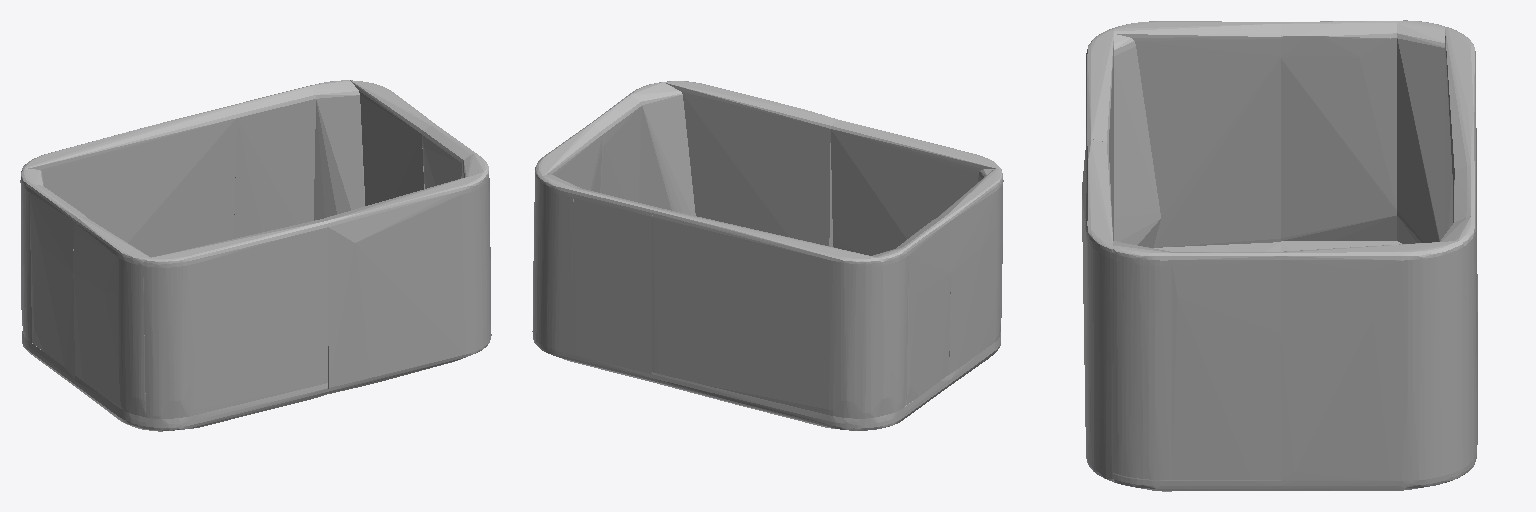
robot.urdf — root:
<robot name="root">
  <link name="link_coacd_convex_piece_0">
    <inertial>
      <origin xyz="0 0 0" rpy="0 0 0"/>
      <inertia ixx="8.41E-04" ixy="-5.33E-04" ixz="6.56E-04" iyy="1.51E-03" iyz="3.71E-04" izz="1.48E-03"/>
    </inertial>
    <visual>
      <origin xyz="0 0 0" rpy="0 0 0"/>
      <geometry>
        <mesh filename="coacd_convex_piece_0.obj" scale="1.0000E+00 1.0000E+00 1.0000E+00"/>
      </geometry>
      <material name="">
        <color rgba="7.50E-01 7.50E-01 7.50E-01 1"/>
      </material>
    </visual>
    <collision>
      <origin xyz="0 0 0" rpy="0 0 0"/>
      <geometry>
        <mesh filename="coacd_convex_piece_0.obj" scale="1.0000E+00 1.0000E+00 1.0000E+00"/>
      </geometry>
    </collision>
  </link>
  <link name="link_coacd_convex_piece_1">
    <inertial>
      <origin xyz="0 0 0" rpy="0 0 0"/>
      <inertia ixx="1.54E-03" ixy="-7.97E-04" ixz="-1.05E-03" iyy="2.47E-03" iyz="-6.84E-04" izz="2.35E-03"/>
    </inertial>
    <visual>
      <origin xyz="0 0 0" rpy="0 0 0"/>
      <geometry>
        <mesh filename="coacd_convex_piece_1.obj" scale="1.0000E+00 1.0000E+00 1.0000E+00"/>
      </geometry>
      <material name="">
        <color rgba="7.50E-01 7.50E-01 7.50E-01 1"/>
      </material>
    </visual>
    <collision>
      <origin xyz="0 0 0" rpy="0 0 0"/>
      <geometry>
        <mesh filename="coacd_convex_piece_1.obj" scale="1.0000E+00 1.0000E+00 1.0000E+00"/>
      </geometry>
    </collision>
  </link>
  <joint name="link_coacd_convex_piece_1_joint" type="fixed">
    <origin xyz="0 0 0" rpy="0 0 0"/>
    <parent link="link_coacd_convex_piece_0"/>
    <child link="link_coacd_convex_piece_1"/>
  </joint>
  <link name="link_coacd_convex_piece_2">
    <inertial>
      <origin xyz="0 0 0" rpy="0 0 0"/>
      <inertia ixx="1.99E-03" ixy="8.29E-04" ixz="-1.04E-03" iyy="2.74E-03" iyz="8.80E-04" izz="2.68E-03"/>
    </inertial>
    <visual>
      <origin xyz="0 0 0" rpy="0 0 0"/>
      <geometry>
        <mesh filename="coacd_convex_piece_2.obj" scale="1.0000E+00 1.0000E+00 1.0000E+00"/>
      </geometry>
      <material name="">
        <color rgba="7.50E-01 7.50E-01 7.50E-01 1"/>
      </material>
    </visual>
    <collision>
      <origin xyz="0 0 0" rpy="0 0 0"/>
      <geometry>
        <mesh filename="coacd_convex_piece_2.obj" scale="1.0000E+00 1.0000E+00 1.0000E+00"/>
      </geometry>
    </collision>
  </link>
  <joint name="link_coacd_convex_piece_2_joint" type="fixed">
    <origin xyz="0 0 0" rpy="0 0 0"/>
    <parent link="link_coacd_convex_piece_1"/>
    <child link="link_coacd_convex_piece_2"/>
  </joint>
  <link name="link_coacd_convex_piece_3">
    <inertial>
      <origin xyz="0 0 0" rpy="0 0 0"/>
      <inertia ixx="3.35E-03" ixy="2.03E-03" ixz="-2.03E-05" iyy="2.38E-03" iyz="6.85E-06" izz="4.81E-03"/>
    </inertial>
    <visual>
      <origin xyz="0 0 0" rpy="0 0 0"/>
      <geometry>
        <mesh filename="coacd_convex_piece_3.obj" scale="1.0000E+00 1.0000E+00 1.0000E+00"/>
      </geometry>
      <material name="">
        <color rgba="7.50E-01 7.50E-01 7.50E-01 1"/>
      </material>
    </visual>
    <collision>
      <origin xyz="0 0 0" rpy="0 0 0"/>
      <geometry>
        <mesh filename="coacd_convex_piece_3.obj" scale="1.0000E+00 1.0000E+00 1.0000E+00"/>
      </geometry>
    </collision>
  </link>
  <joint name="link_coacd_convex_piece_3_joint" type="fixed">
    <origin xyz="0 0 0" rpy="0 0 0"/>
    <parent link="link_coacd_convex_piece_2"/>
    <child link="link_coacd_convex_piece_3"/>
  </joint>
  <link name="link_coacd_convex_piece_4">
    <inertial>
      <origin xyz="0 0 0" rpy="0 0 0"/>
      <inertia ixx="9.73E-04" ixy="-1.55E-03" ixz="-1.61E-04" iyy="4.77E-03" iyz="-5.45E-05" izz="5.17E-03"/>
    </inertial>
    <visual>
      <origin xyz="0 0 0" rpy="0 0 0"/>
      <geometry>
        <mesh filename="coacd_convex_piece_4.obj" scale="1.0000E+00 1.0000E+00 1.0000E+00"/>
      </geometry>
      <material name="">
        <color rgba="7.50E-01 7.50E-01 7.50E-01 1"/>
      </material>
    </visual>
    <collision>
      <origin xyz="0 0 0" rpy="0 0 0"/>
      <geometry>
        <mesh filename="coacd_convex_piece_4.obj" scale="1.0000E+00 1.0000E+00 1.0000E+00"/>
      </geometry>
    </collision>
  </link>
  <joint name="link_coacd_convex_piece_4_joint" type="fixed">
    <origin xyz="0 0 0" rpy="0 0 0"/>
    <parent link="link_coacd_convex_piece_3"/>
    <child link="link_coacd_convex_piece_4"/>
  </joint>
  <link name="link_coacd_convex_piece_5">
    <inertial>
      <origin xyz="0 0 0" rpy="0 0 0"/>
      <inertia ixx="7.75E-04" ixy="4.17E-04" ixz="6.27E-04" iyy="1.50E-03" iyz="-3.31E-04" izz="1.32E-03"/>
    </inertial>
    <visual>
      <origin xyz="0 0 0" rpy="0 0 0"/>
      <geometry>
        <mesh filename="coacd_convex_piece_5.obj" scale="1.0000E+00 1.0000E+00 1.0000E+00"/>
      </geometry>
      <material name="">
        <color rgba="7.50E-01 7.50E-01 7.50E-01 1"/>
      </material>
    </visual>
    <collision>
      <origin xyz="0 0 0" rpy="0 0 0"/>
      <geometry>
        <mesh filename="coacd_convex_piece_5.obj" scale="1.0000E+00 1.0000E+00 1.0000E+00"/>
      </geometry>
    </collision>
  </link>
  <joint name="link_coacd_convex_piece_5_joint" type="fixed">
    <origin xyz="0 0 0" rpy="0 0 0"/>
    <parent link="link_coacd_convex_piece_4"/>
    <child link="link_coacd_convex_piece_5"/>
  </joint>
  <link name="link_coacd_convex_piece_6">
    <inertial>
      <origin xyz="0 0 0" rpy="0 0 0"/>
      <inertia ixx="2.68E-03" ixy="-1.79E-03" ixz="1.12E-04" iyy="2.08E-03" iyz="1.63E-04" izz="4.12E-03"/>
    </inertial>
    <visual>
      <origin xyz="0 0 0" rpy="0 0 0"/>
      <geometry>
        <mesh filename="coacd_convex_piece_6.obj" scale="1.0000E+00 1.0000E+00 1.0000E+00"/>
      </geometry>
      <material name="">
        <color rgba="7.50E-01 7.50E-01 7.50E-01 1"/>
      </material>
    </visual>
    <collision>
      <origin xyz="0 0 0" rpy="0 0 0"/>
      <geometry>
        <mesh filename="coacd_convex_piece_6.obj" scale="1.0000E+00 1.0000E+00 1.0000E+00"/>
      </geometry>
    </collision>
  </link>
  <joint name="link_coacd_convex_piece_6_joint" type="fixed">
    <origin xyz="0 0 0" rpy="0 0 0"/>
    <parent link="link_coacd_convex_piece_5"/>
    <child link="link_coacd_convex_piece_6"/>
  </joint>
  <link name="link_coacd_convex_piece_7">
    <inertial>
      <origin xyz="0 0 0" rpy="0 0 0"/>
      <inertia ixx="3.93E-03" ixy="2.01E-03" ixz="1.07E-04" iyy="2.51E-03" iyz="-2.50E-04" izz="5.54E-03"/>
    </inertial>
    <visual>
      <origin xyz="0 0 0" rpy="0 0 0"/>
      <geometry>
        <mesh filename="coacd_convex_piece_7.obj" scale="1.0000E+00 1.0000E+00 1.0000E+00"/>
      </geometry>
      <material name="">
        <color rgba="7.50E-01 7.50E-01 7.50E-01 1"/>
      </material>
    </visual>
    <collision>
      <origin xyz="0 0 0" rpy="0 0 0"/>
      <geometry>
        <mesh filename="coacd_convex_piece_7.obj" scale="1.0000E+00 1.0000E+00 1.0000E+00"/>
      </geometry>
    </collision>
  </link>
  <joint name="link_coacd_convex_piece_7_joint" type="fixed">
    <origin xyz="0 0 0" rpy="0 0 0"/>
    <parent link="link_coacd_convex_piece_6"/>
    <child link="link_coacd_convex_piece_7"/>
  </joint>
  <link name="link_coacd_convex_piece_8">
    <inertial>
      <origin xyz="0 0 0" rpy="0 0 0"/>
      <inertia ixx="2.15E-04" ixy="-2.99E-04" ixz="-4.40E-05" iyy="5.17E-04" iyz="-2.74E-05" izz="6.71E-04"/>
    </inertial>
    <visual>
      <origin xyz="0 0 0" rpy="0 0 0"/>
      <geometry>
        <mesh filename="coacd_convex_piece_8.obj" scale="1.0000E+00 1.0000E+00 1.0000E+00"/>
      </geometry>
      <material name="">
        <color rgba="7.50E-01 7.50E-01 7.50E-01 1"/>
      </material>
    </visual>
    <collision>
      <origin xyz="0 0 0" rpy="0 0 0"/>
      <geometry>
        <mesh filename="coacd_convex_piece_8.obj" scale="1.0000E+00 1.0000E+00 1.0000E+00"/>
      </geometry>
    </collision>
  </link>
  <joint name="link_coacd_convex_piece_8_joint" type="fixed">
    <origin xyz="0 0 0" rpy="0 0 0"/>
    <parent link="link_coacd_convex_piece_7"/>
    <child link="link_coacd_convex_piece_8"/>
  </joint>
  <link name="link_coacd_convex_piece_9">
    <inertial>
      <origin xyz="0 0 0" rpy="0 0 0"/>
      <inertia ixx="9.46E-04" ixy="-1.05E-03" ixz="-1.72E-05" iyy="1.47E-03" iyz="-2.07E-05" izz="2.18E-03"/>
    </inertial>
    <visual>
      <origin xyz="0 0 0" rpy="0 0 0"/>
      <geometry>
        <mesh filename="coacd_convex_piece_9.obj" scale="1.0000E+00 1.0000E+00 1.0000E+00"/>
      </geometry>
      <material name="">
        <color rgba="7.50E-01 7.50E-01 7.50E-01 1"/>
      </material>
    </visual>
    <collision>
      <origin xyz="0 0 0" rpy="0 0 0"/>
      <geometry>
        <mesh filename="coacd_convex_piece_9.obj" scale="1.0000E+00 1.0000E+00 1.0000E+00"/>
      </geometry>
    </collision>
  </link>
  <joint name="link_coacd_convex_piece_9_joint" type="fixed">
    <origin xyz="0 0 0" rpy="0 0 0"/>
    <parent link="link_coacd_convex_piece_8"/>
    <child link="link_coacd_convex_piece_9"/>
  </joint>
  <link name="link_coacd_convex_piece_10">
    <inertial>
      <origin xyz="0 0 0" rpy="0 0 0"/>
      <inertia ixx="2.26E-04" ixy="3.90E-04" ixz="-1.31E-04" iyy="2.17E-03" iyz="2.32E-05" izz="2.14E-03"/>
    </inertial>
    <visual>
      <origin xyz="0 0 0" rpy="0 0 0"/>
      <geometry>
        <mesh filename="coacd_convex_piece_10.obj" scale="1.0000E+00 1.0000E+00 1.0000E+00"/>
      </geometry>
      <material name="">
        <color rgba="7.50E-01 7.50E-01 7.50E-01 1"/>
      </material>
    </visual>
    <collision>
      <origin xyz="0 0 0" rpy="0 0 0"/>
      <geometry>
        <mesh filename="coacd_convex_piece_10.obj" scale="1.0000E+00 1.0000E+00 1.0000E+00"/>
      </geometry>
    </collision>
  </link>
  <joint name="link_coacd_convex_piece_10_joint" type="fixed">
    <origin xyz="0 0 0" rpy="0 0 0"/>
    <parent link="link_coacd_convex_piece_9"/>
    <child link="link_coacd_convex_piece_10"/>
  </joint>
  <link name="link_coacd_convex_piece_11">
    <inertial>
      <origin xyz="0 0 0" rpy="0 0 0"/>
      <inertia ixx="2.63E-04" ixy="4.98E-04" ixz="1.27E-04" iyy="2.34E-03" iyz="-2.91E-05" izz="2.36E-03"/>
    </inertial>
    <visual>
      <origin xyz="0 0 0" rpy="0 0 0"/>
      <geometry>
        <mesh filename="coacd_convex_piece_11.obj" scale="1.0000E+00 1.0000E+00 1.0000E+00"/>
      </geometry>
      <material name="">
        <color rgba="7.50E-01 7.50E-01 7.50E-01 1"/>
      </material>
    </visual>
    <collision>
      <origin xyz="0 0 0" rpy="0 0 0"/>
      <geometry>
        <mesh filename="coacd_convex_piece_11.obj" scale="1.0000E+00 1.0000E+00 1.0000E+00"/>
      </geometry>
    </collision>
  </link>
  <joint name="link_coacd_convex_piece_11_joint" type="fixed">
    <origin xyz="0 0 0" rpy="0 0 0"/>
    <parent link="link_coacd_convex_piece_10"/>
    <child link="link_coacd_convex_piece_11"/>
  </joint>
  <link name="link_coacd_convex_piece_12">
    <inertial>
      <origin xyz="0 0 0" rpy="0 0 0"/>
      <inertia ixx="7.41E-04" ixy="1.11E-03" ixz="-3.32E-05" iyy="2.20E-03" iyz="1.04E-05" izz="2.67E-03"/>
    </inertial>
    <visual>
      <origin xyz="0 0 0" rpy="0 0 0"/>
      <geometry>
        <mesh filename="coacd_convex_piece_12.obj" scale="1.0000E+00 1.0000E+00 1.0000E+00"/>
      </geometry>
      <material name="">
        <color rgba="7.50E-01 7.50E-01 7.50E-01 1"/>
      </material>
    </visual>
    <collision>
      <origin xyz="0 0 0" rpy="0 0 0"/>
      <geometry>
        <mesh filename="coacd_convex_piece_12.obj" scale="1.0000E+00 1.0000E+00 1.0000E+00"/>
      </geometry>
    </collision>
  </link>
  <joint name="link_coacd_convex_piece_12_joint" type="fixed">
    <origin xyz="0 0 0" rpy="0 0 0"/>
    <parent link="link_coacd_convex_piece_11"/>
    <child link="link_coacd_convex_piece_12"/>
  </joint>
  <link name="link_coacd_convex_piece_13">
    <inertial>
      <origin xyz="0 0 0" rpy="0 0 0"/>
      <inertia ixx="5.61E-04" ixy="8.45E-04" ixz="1.64E-05" iyy="1.62E-03" iyz="-6.48E-06" izz="2.01E-03"/>
    </inertial>
    <visual>
      <origin xyz="0 0 0" rpy="0 0 0"/>
      <geometry>
        <mesh filename="coacd_convex_piece_13.obj" scale="1.0000E+00 1.0000E+00 1.0000E+00"/>
      </geometry>
      <material name="">
        <color rgba="7.50E-01 7.50E-01 7.50E-01 1"/>
      </material>
    </visual>
    <collision>
      <origin xyz="0 0 0" rpy="0 0 0"/>
      <geometry>
        <mesh filename="coacd_convex_piece_13.obj" scale="1.0000E+00 1.0000E+00 1.0000E+00"/>
      </geometry>
    </collision>
  </link>
  <joint name="link_coacd_convex_piece_13_joint" type="fixed">
    <origin xyz="0 0 0" rpy="0 0 0"/>
    <parent link="link_coacd_convex_piece_12"/>
    <child link="link_coacd_convex_piece_13"/>
  </joint>
  <link name="link_coacd_convex_piece_14">
    <inertial>
      <origin xyz="0 0 0" rpy="0 0 0"/>
      <inertia ixx="1.20E-03" ixy="-7.35E-04" ixz="-7.04E-05" iyy="6.90E-04" iyz="-1.01E-04" izz="1.61E-03"/>
    </inertial>
    <visual>
      <origin xyz="0 0 0" rpy="0 0 0"/>
      <geometry>
        <mesh filename="coacd_convex_piece_14.obj" scale="1.0000E+00 1.0000E+00 1.0000E+00"/>
      </geometry>
      <material name="">
        <color rgba="7.50E-01 7.50E-01 7.50E-01 1"/>
      </material>
    </visual>
    <collision>
      <origin xyz="0 0 0" rpy="0 0 0"/>
      <geometry>
        <mesh filename="coacd_convex_piece_14.obj" scale="1.0000E+00 1.0000E+00 1.0000E+00"/>
      </geometry>
    </collision>
  </link>
  <joint name="link_coacd_convex_piece_14_joint" type="fixed">
    <origin xyz="0 0 0" rpy="0 0 0"/>
    <parent link="link_coacd_convex_piece_13"/>
    <child link="link_coacd_convex_piece_14"/>
  </joint>
  <link name="link_coacd_convex_piece_15">
    <inertial>
      <origin xyz="0 0 0" rpy="0 0 0"/>
      <inertia ixx="6.08E-04" ixy="-1.05E-03" ixz="1.63E-04" iyy="3.71E-03" iyz="4.04E-05" izz="3.92E-03"/>
    </inertial>
    <visual>
      <origin xyz="0 0 0" rpy="0 0 0"/>
      <geometry>
        <mesh filename="coacd_convex_piece_15.obj" scale="1.0000E+00 1.0000E+00 1.0000E+00"/>
      </geometry>
      <material name="">
        <color rgba="7.50E-01 7.50E-01 7.50E-01 1"/>
      </material>
    </visual>
    <collision>
      <origin xyz="0 0 0" rpy="0 0 0"/>
      <geometry>
        <mesh filename="coacd_convex_piece_15.obj" scale="1.0000E+00 1.0000E+00 1.0000E+00"/>
      </geometry>
    </collision>
  </link>
  <joint name="link_coacd_convex_piece_15_joint" type="fixed">
    <origin xyz="0 0 0" rpy="0 0 0"/>
    <parent link="link_coacd_convex_piece_14"/>
    <child link="link_coacd_convex_piece_15"/>
  </joint>
</robot>

--- Render facts (derived) ---
The picture shows the robot from 3 angles, left to right: view 1: azimuth 30°, elevation 25°; view 2: azimuth 150°, elevation 25°; view 3: azimuth 270°, elevation 25°; orthographic projection.
Model root with 16 links and 15 joints (15 fixed), rooted at link_coacd_convex_piece_0, posed all joints at 0.
Links seen in each view (by area): view 1: link_coacd_convex_piece_6, link_coacd_convex_piece_3, link_coacd_convex_piece_7, link_coacd_convex_piece_15, link_coacd_convex_piece_14, link_coacd_convex_piece_11, link_coacd_convex_piece_4, link_coacd_convex_piece_9, link_coacd_convex_piece_1, link_coacd_convex_piece_10, link_coacd_convex_piece_13, link_coacd_convex_piece_2 (+1 smaller); view 2: link_coacd_convex_piece_7, link_coacd_convex_piece_3, link_coacd_convex_piece_6, link_coacd_convex_piece_14, link_coacd_convex_piece_15, link_coacd_convex_piece_11, link_coacd_convex_piece_12, link_coacd_convex_piece_9, link_coacd_convex_piece_13, link_coacd_convex_piece_4, link_coacd_convex_piece_10, link_coacd_convex_piece_2 (+2 smaller); view 3: link_coacd_convex_piece_4, link_coacd_convex_piece_15, link_coacd_convex_piece_11, link_coacd_convex_piece_10, link_coacd_convex_piece_12, link_coacd_convex_piece_13, link_coacd_convex_piece_3, link_coacd_convex_piece_8, link_coacd_convex_piece_7, link_coacd_convex_piece_6, link_coacd_convex_piece_9, link_coacd_convex_piece_5 (+4 smaller).
Link boxes in pixels (x1,y1,x2,y2): link_coacd_convex_piece_6: [143, 219, 327, 418]; link_coacd_convex_piece_3: [321, 172, 490, 393]; link_coacd_convex_piece_7: [21, 106, 236, 256]; link_coacd_convex_piece_15: [73, 216, 150, 416]; link_coacd_convex_piece_14: [230, 86, 315, 238]; link_coacd_convex_piece_11: [30, 184, 86, 373]; link_coacd_convex_piece_4: [350, 80, 434, 205]; link_coacd_convex_piece_9: [310, 80, 364, 220]; link_coacd_convex_piece_1: [74, 376, 327, 431]; link_coacd_convex_piece_10: [422, 124, 476, 188]; link_coacd_convex_piece_13: [20, 169, 43, 342]; link_coacd_convex_piece_2: [22, 331, 74, 385]; link_coacd_convex_piece_7: [652, 208, 882, 418]; link_coacd_convex_piece_3: [664, 81, 836, 246]; link_coacd_convex_piece_6: [831, 119, 1001, 255]; link_coacd_convex_piece_14: [573, 188, 657, 373]; link_coacd_convex_piece_15: [937, 169, 1003, 374]; link_coacd_convex_piece_11: [896, 216, 950, 404]; link_coacd_convex_piece_12: [629, 82, 695, 215]; link_coacd_convex_piece_9: [540, 175, 579, 354]; link_coacd_convex_piece_13: [873, 247, 908, 415]; link_coacd_convex_piece_4: [532, 124, 602, 342]; link_coacd_convex_piece_10: [589, 95, 641, 201]; link_coacd_convex_piece_2: [652, 372, 949, 430]; link_coacd_convex_piece_4: [1281, 241, 1467, 480]; link_coacd_convex_piece_15: [1114, 21, 1280, 247]; link_coacd_convex_piece_11: [1281, 21, 1396, 240]; link_coacd_convex_piece_10: [1172, 252, 1280, 479]; link_coacd_convex_piece_12: [1113, 241, 1171, 479]; link_coacd_convex_piece_13: [1397, 20, 1444, 243]; link_coacd_convex_piece_3: [1082, 139, 1112, 481]; link_coacd_convex_piece_8: [1114, 34, 1160, 247]; link_coacd_convex_piece_7: [1445, 27, 1477, 338]; link_coacd_convex_piece_6: [1086, 28, 1113, 240]; link_coacd_convex_piece_9: [1440, 217, 1477, 464]; link_coacd_convex_piece_5: [1113, 473, 1280, 491].
Bounding box of the posed robot: 1.64 × 1.12 × 0.7699 m (x, y, z).
16 mesh visuals loaded from 16 distinct referenced files (16 OBJ).